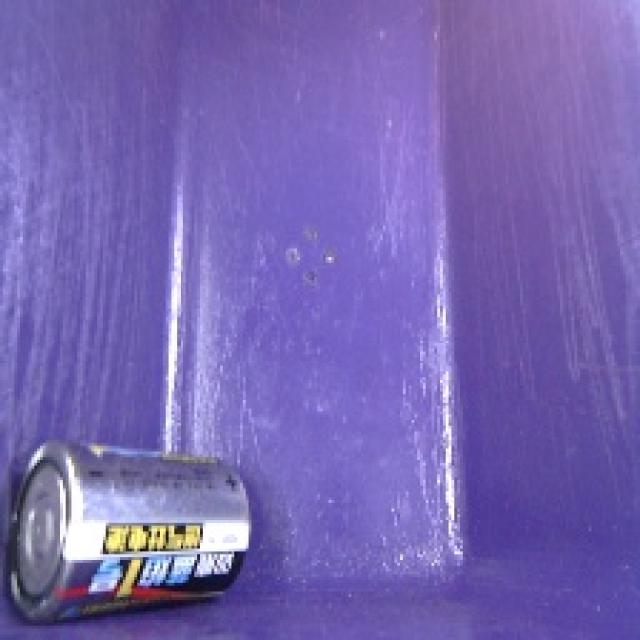battery: (0, 428, 263, 627)
